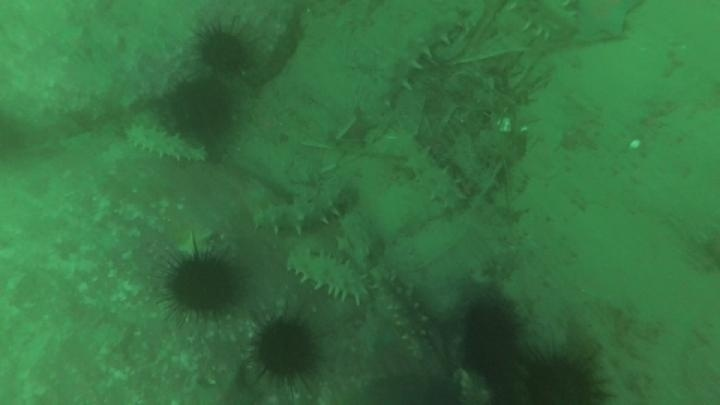echinus: (160, 243, 245, 324), (247, 312, 323, 388), (458, 294, 525, 377), (516, 345, 608, 405), (163, 75, 237, 141), (361, 362, 463, 405), (193, 22, 253, 75)
holothurian: (370, 7, 473, 107), (381, 126, 468, 213), (250, 180, 356, 239), (370, 267, 431, 364), (284, 246, 373, 306), (122, 121, 209, 166), (503, 1, 581, 46)
starfish: (569, 1, 646, 46)
